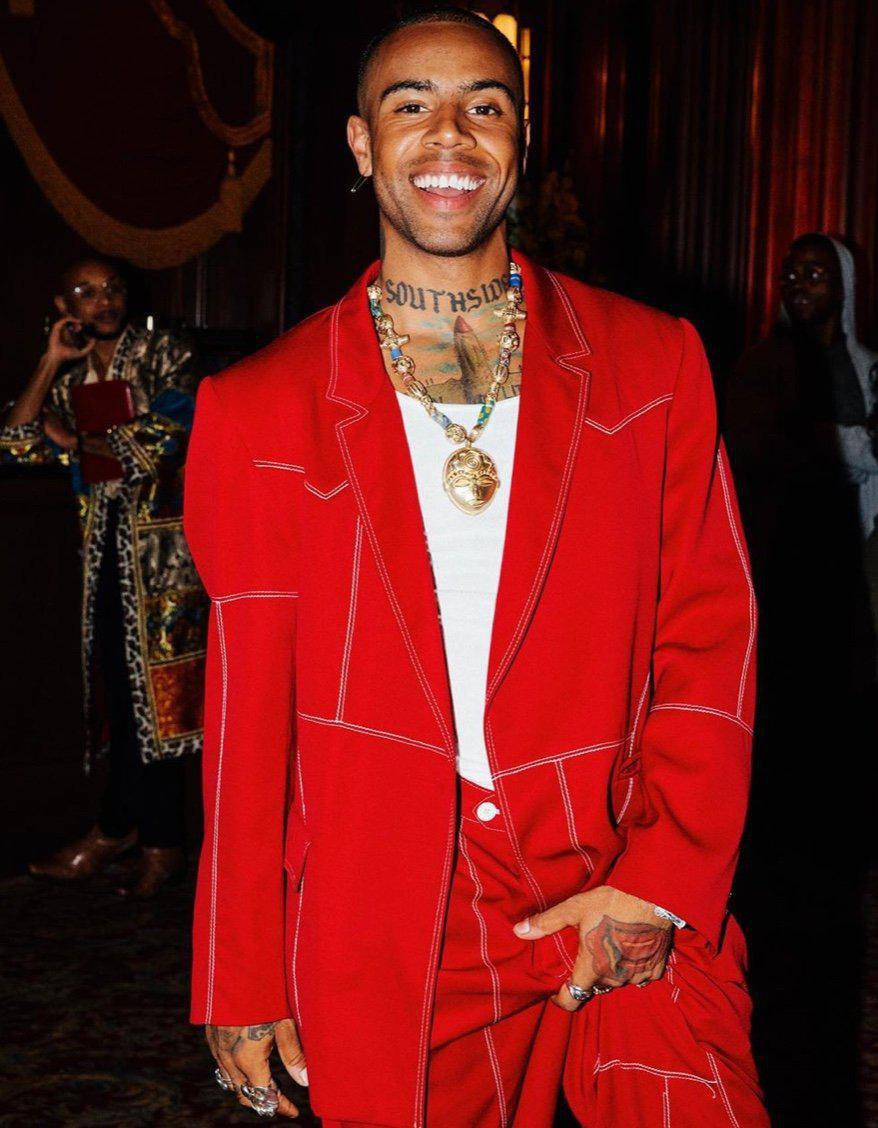Sober: (371, 26, 525, 227)
